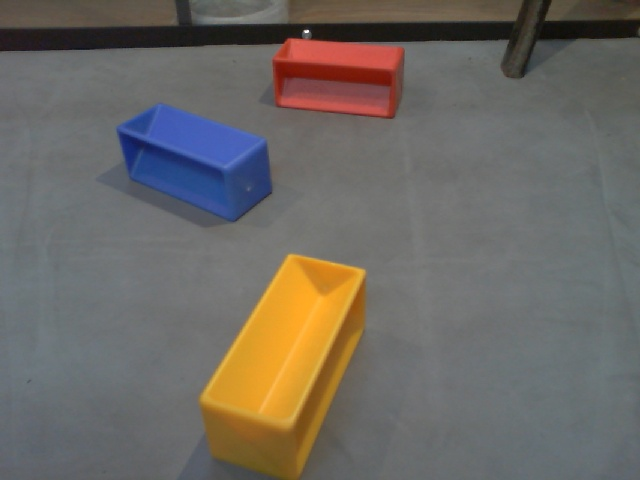BlueSample: (113, 97, 278, 226)
RedSample: (267, 34, 410, 122)
YellowSample: (192, 247, 367, 479)
